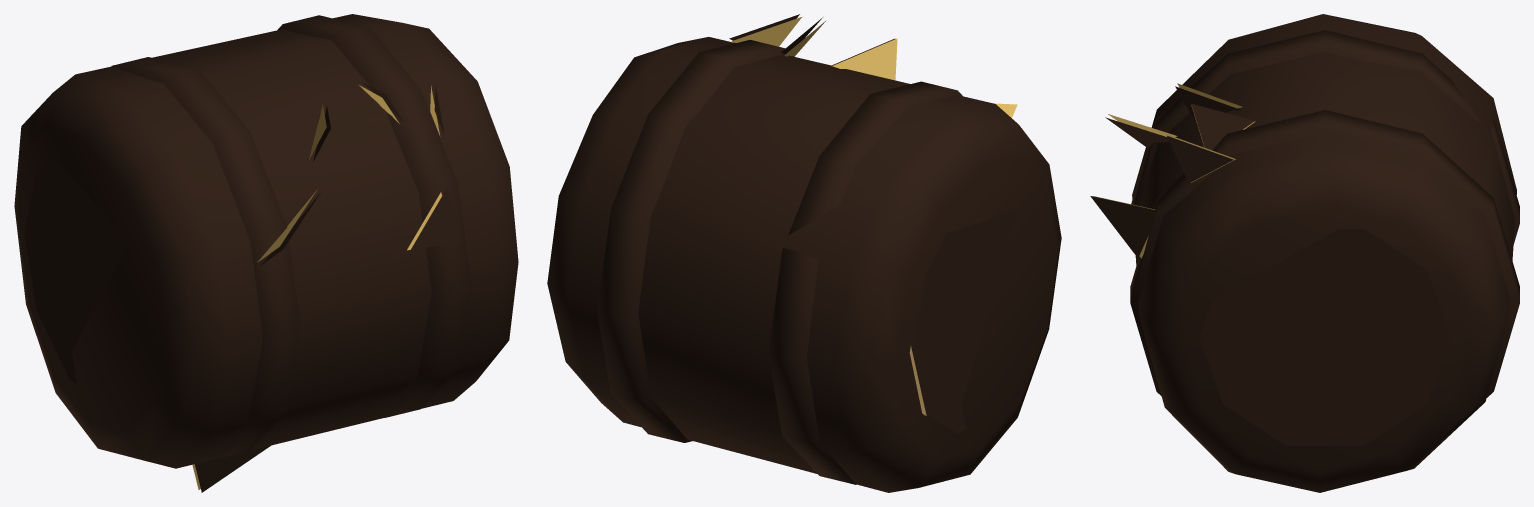
The model's file is hay.glb.
3 renders of one model, left to right at view 1: azimuth 30°, elevation 25°; view 2: azimuth 150°, elevation 25°; view 3: azimuth 270°, elevation 25°, orthographic. The views are drawn at different scales.
Parts seen in each view (by area): view 1: hay_outline, hay; view 2: hay_outline, hay; view 3: hay_outline, hay.
Boxes of the visible parts, left/top/right/bottom form: hay_outline: left=14, top=14, right=518, bottom=492; hay: left=192, top=85, right=442, bottom=489; hay_outline: left=547, top=14, right=1061, bottom=492; hay: left=731, top=17, right=1017, bottom=415; hay_outline: left=1090, top=14, right=1519, bottom=492; hay: left=1093, top=83, right=1254, bottom=258.
Bounding box in the file's own units: 1.26 × 1.33 × 1.37.
